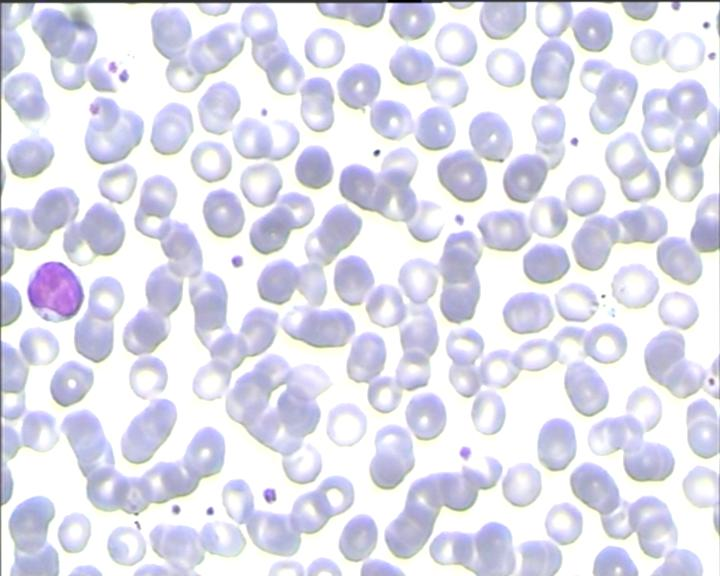lymp: (23, 256, 84, 328)
